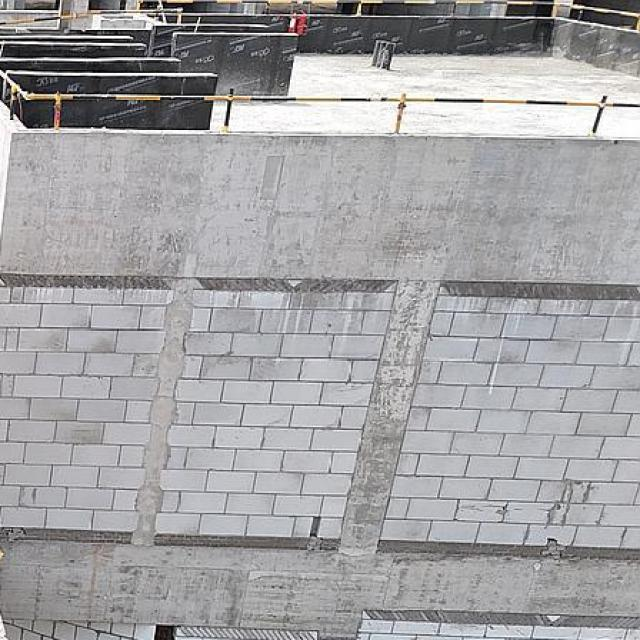Guardrail: (0, 66, 640, 137), (135, 0, 640, 33), (88, 8, 183, 25), (0, 14, 79, 25)
